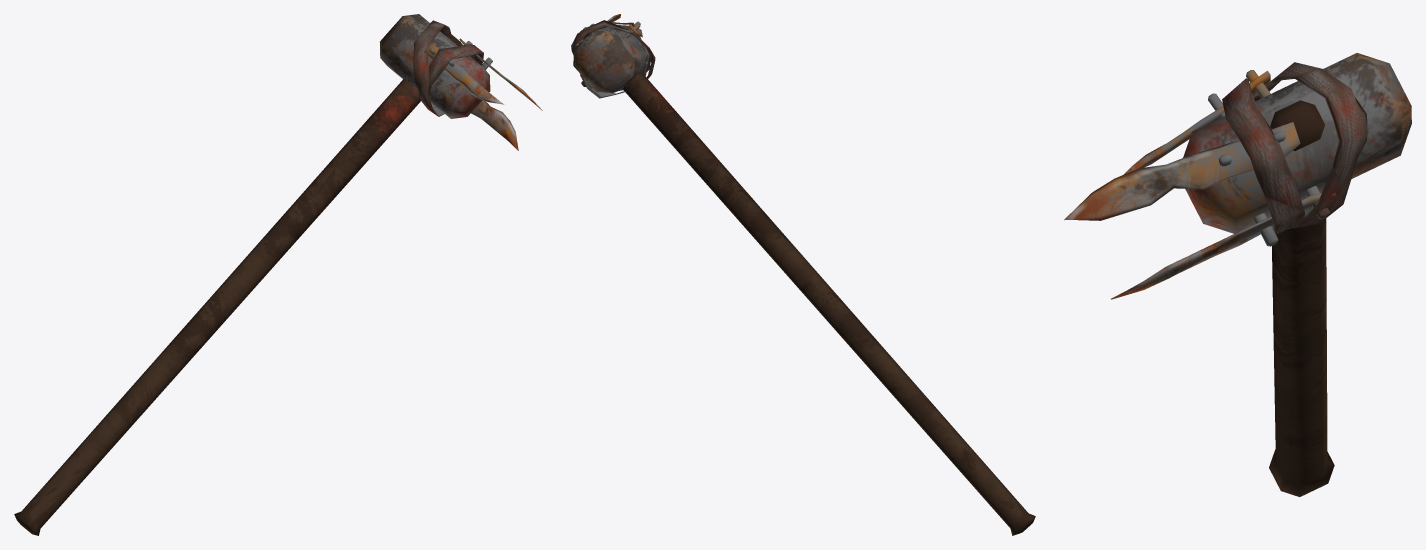
The model's file is Weapon_Model.fbx.
3 renders of one model, left to right at view 1: azimuth 30°, elevation 25°; view 2: azimuth 150°, elevation 25°; view 3: azimuth 270°, elevation 25°, orthographic. The views are drawn at different scales.
Visible parts, largest first — view 1: pCube13; view 2: pCube13; view 3: pCube13.
Boxes of the visible parts, x1,y1,x2,y2 form: pCube13: [14, 14, 542, 535]; pCube13: [571, 14, 1035, 535]; pCube13: [1064, 53, 1411, 496].
Size of the model in its own units: 98.64 by 82.81 by 31.79.
